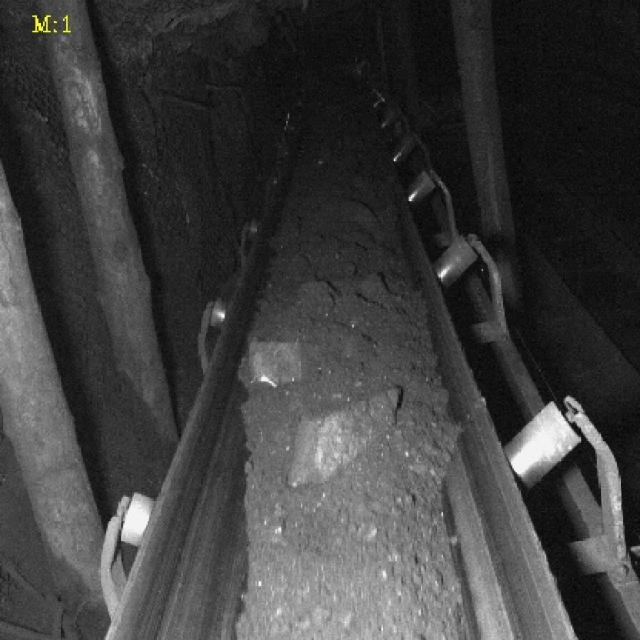large_sized_coal: (283, 391, 408, 491), (243, 337, 311, 400)
